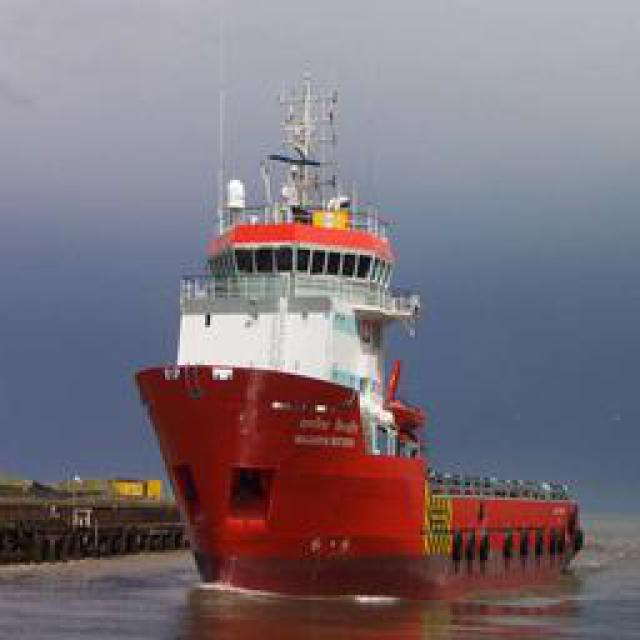Ship: (127, 71, 457, 594)
